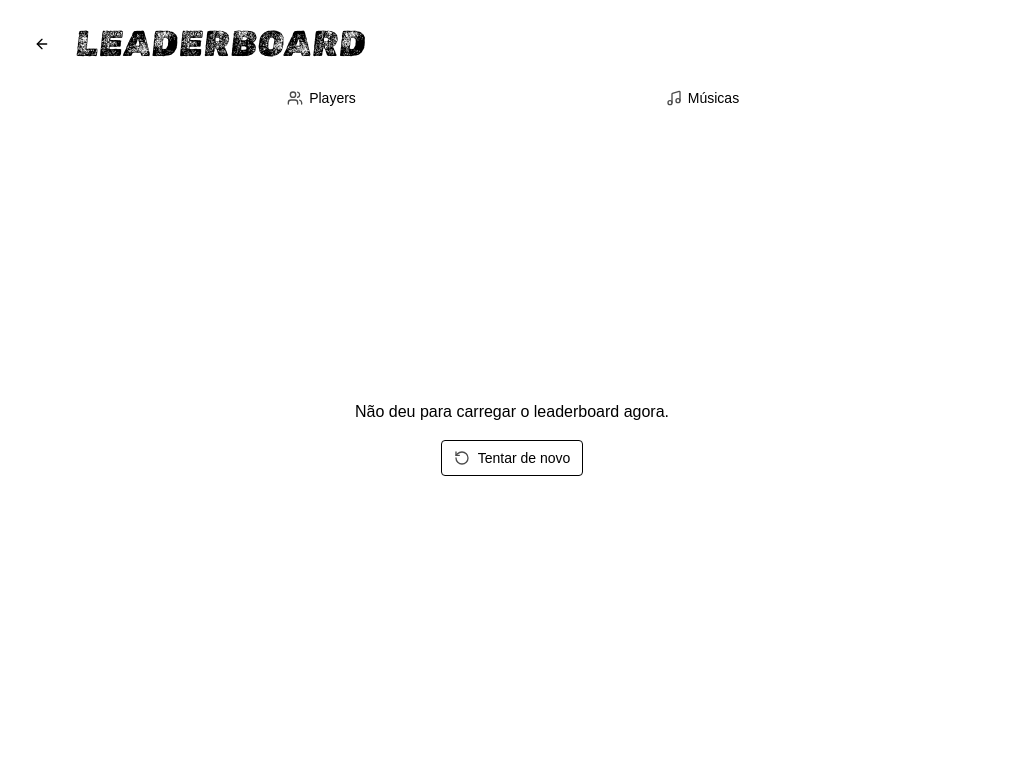
Test: TelaDeLeaderboard › se a API falha, deixa tentar de novo
Click the button "Tentar de novo": coordinates (512, 458) x1=441 y1=440 x2=583 y2=476
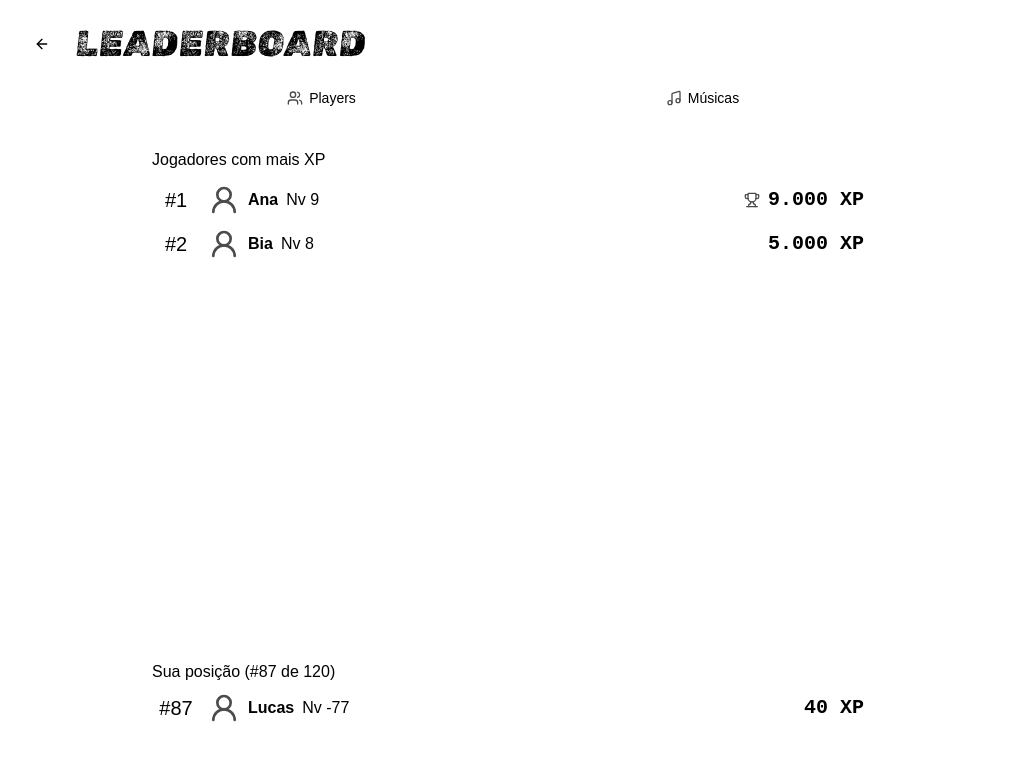
Expected: the list named "Players" is shown, x1=165 y1=184 x2=864 y2=260
